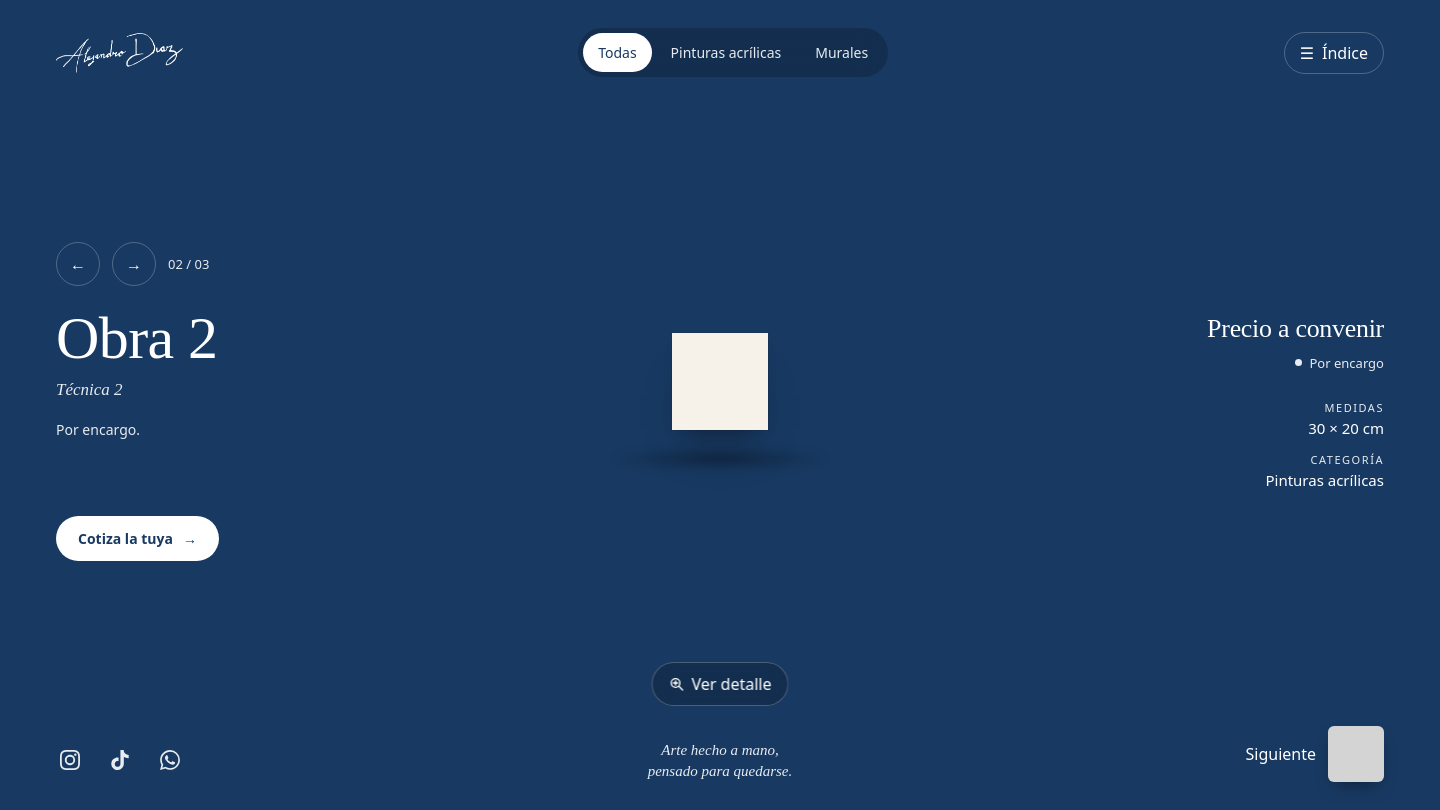
Test: deslizar en ambos sentidos anima la entrada y la salida
This screenshot has width=1440, height=810.
expect the heading "Obra 2" is shown: met, box [56,308,217,370]
Press the mouse on the element showing "Ver detalle": point(720, 382) [610,333,830,706]
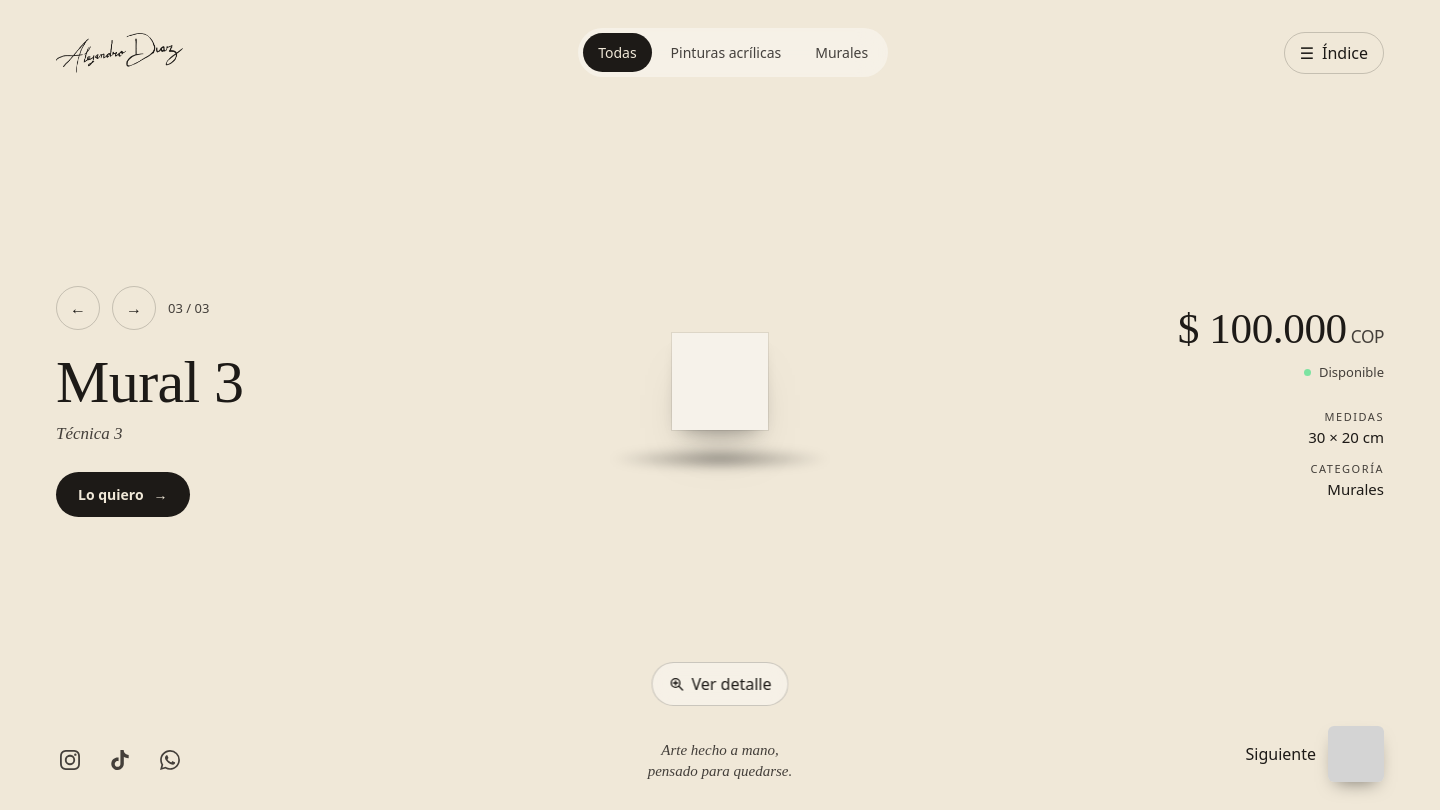
expect the element with class "is-in" is shown: met, box [610,333,830,470]
expect the heading "Mural 3" is shown: met, box [56,352,243,414]
Press the mouse on the element showing "Ver detalle": point(720, 382) [610,333,830,706]
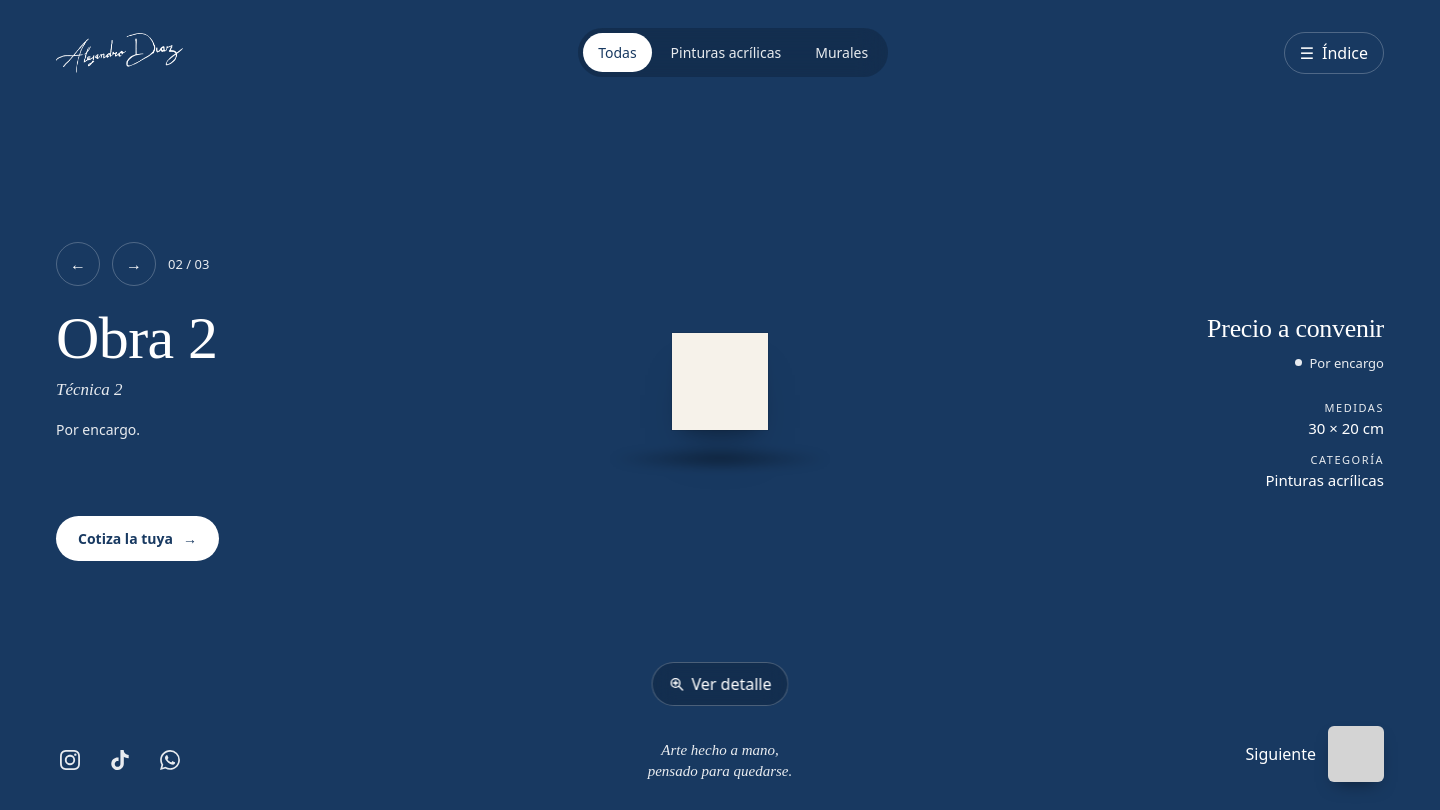
expect the element with class "is-out" is shown: met, box [610,333,830,470]
expect the heading "Obra 2" is shown: met, box [56,308,217,370]
